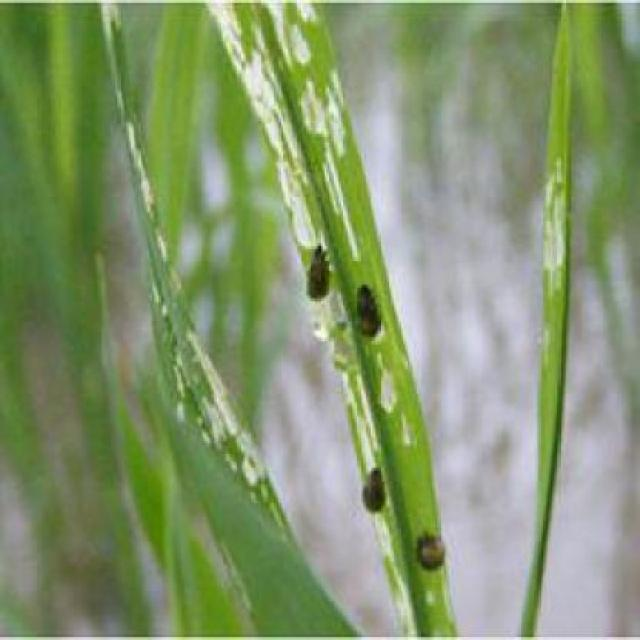rice-bug: (302, 242, 336, 301), (412, 524, 451, 574), (355, 283, 388, 339), (362, 462, 392, 516)
